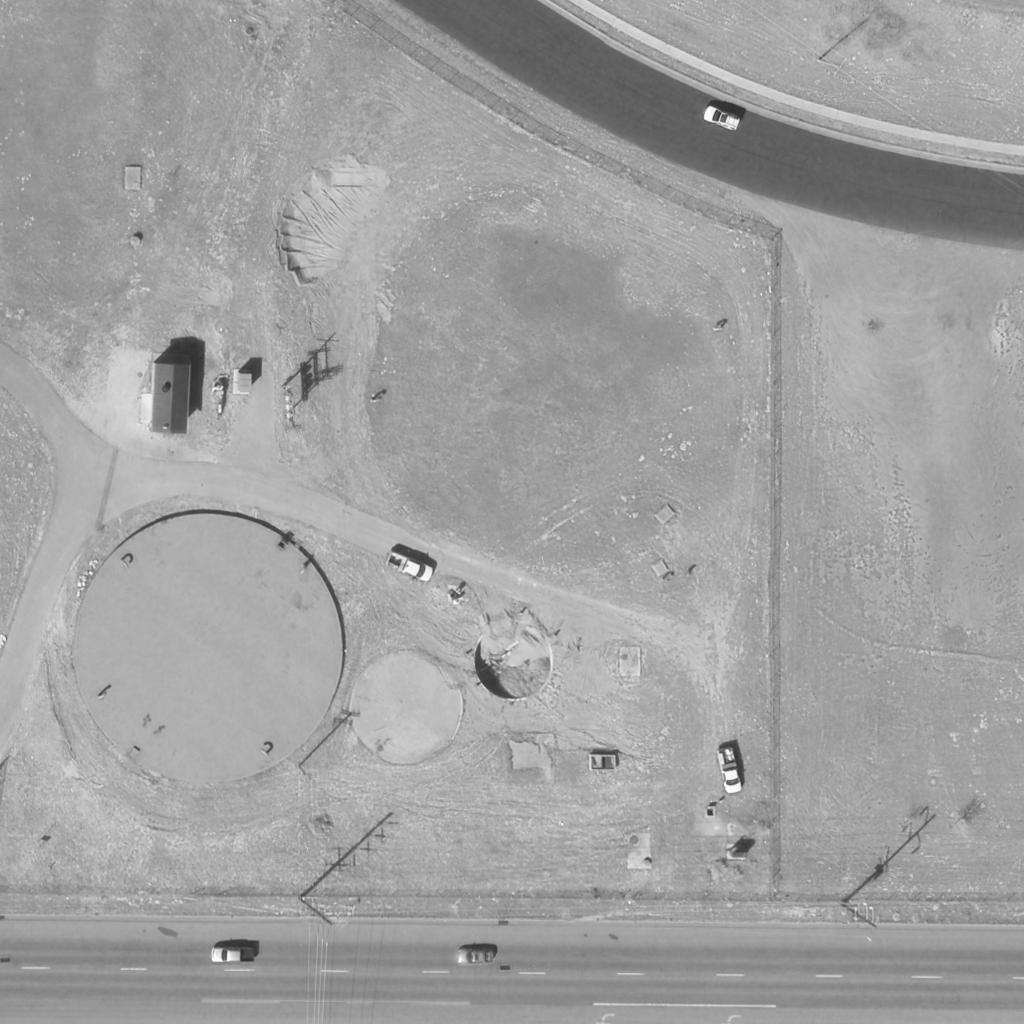vehicle: (385, 550, 435, 582), (716, 747, 742, 795), (703, 106, 741, 134), (210, 948, 260, 962), (458, 951, 494, 963)
